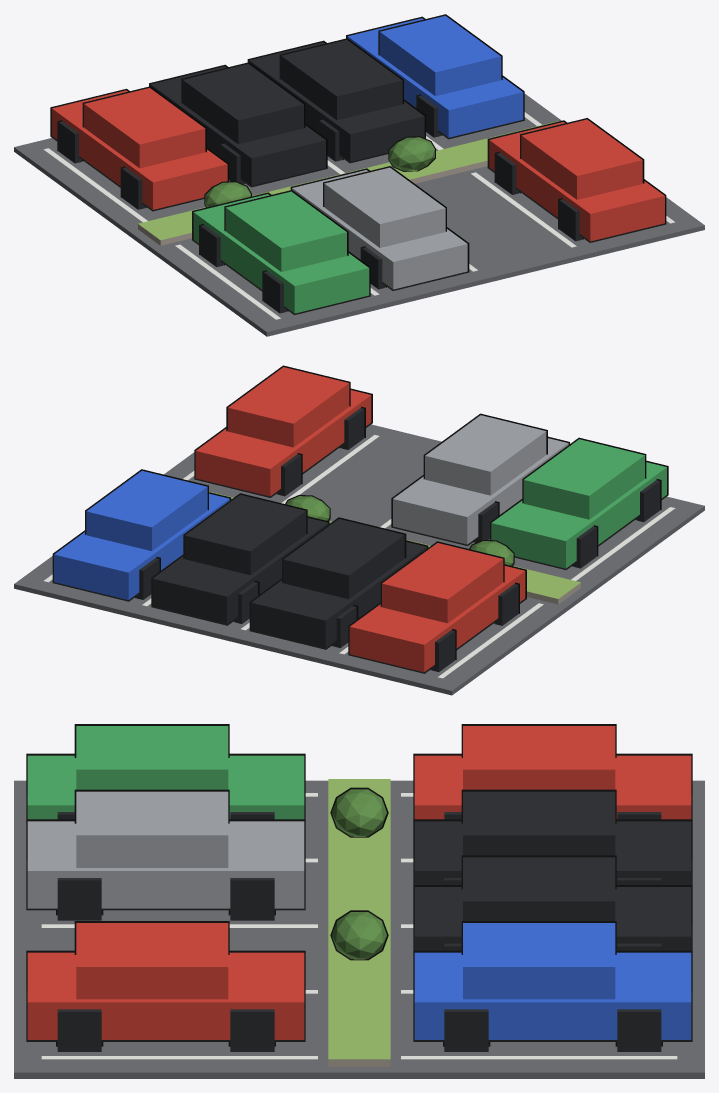
The model's file is Avlu_otopark.fbx.
3 renders of one model, top to bottom at view 1: azimuth 30°, elevation 25°; view 2: azimuth 150°, elevation 25°; view 3: azimuth 270°, elevation 25°, orthographic. The views are drawn at different scales.
Visible parts, largest first — view 1: Avlu_otopark; view 2: Avlu_otopark; view 3: Avlu_otopark.
Part boxes in pixels (box(x1,y1,x2,y2)): Avlu_otopark: box(14, 14, 704, 336); Avlu_otopark: box(14, 365, 704, 695); Avlu_otopark: box(14, 724, 704, 1078).
Size of the model in its own units: 10 by 1.39 by 10.
